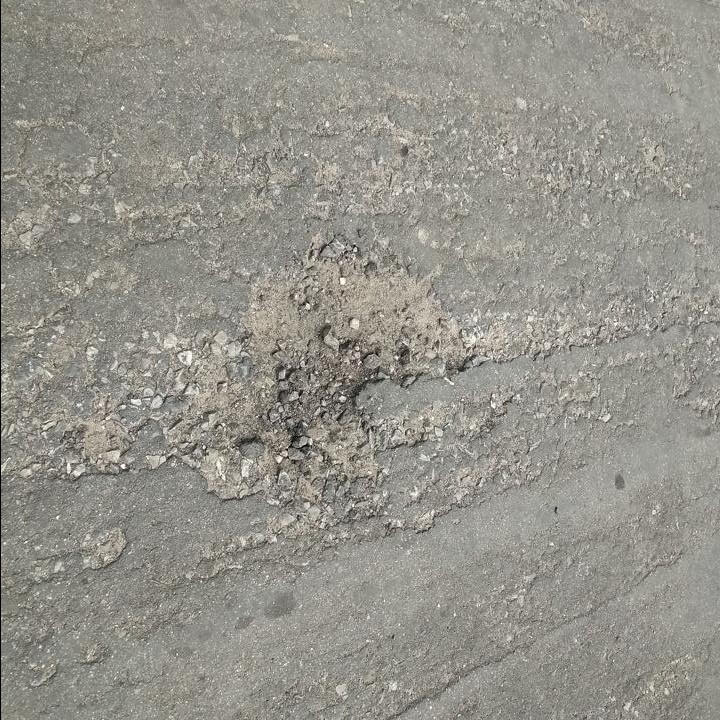pothole: (170, 228, 475, 491)
